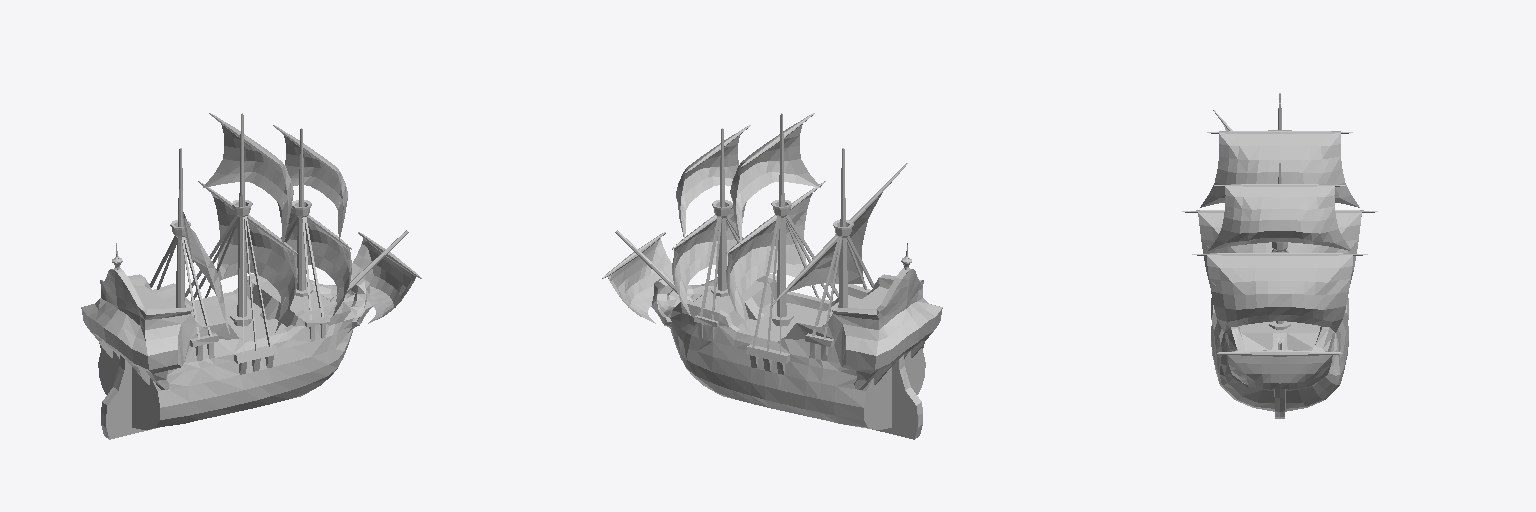
File: galleone.obj
The picture shows the model from 3 angles: view 1: azimuth 30°, elevation 25°; view 2: azimuth 150°, elevation 25°; view 3: azimuth 270°, elevation 25°; orthographic projection.
Visible parts, largest first — view 1: hull, sail2, sail1, aft, deck, mast2, sail6, sail4, sail5, mast3, keel, mast1 (+3 smaller); view 2: hull, sail2, sail1, aft, deck, mast2, sail6, sail4, sail3, sail5, mast3, mast1 (+3 smaller); view 3: sail5, sail1, sail4, hull, sail6, sail2, deck.
Part boxes in pixels (left/top/right/bottom): hull: left=98, top=268, right=372, bottom=429; sail2: left=198, top=181, right=297, bottom=332; sail1: left=203, top=113, right=293, bottom=243; aft: left=81, top=298, right=183, bottom=389; deck: left=135, top=281, right=354, bottom=338; mast2: left=185, top=113, right=271, bottom=353; sail6: left=350, top=232, right=421, bottom=323; sail4: left=273, top=125, right=347, bottom=240; sail5: left=277, top=202, right=351, bottom=315; mast3: left=149, top=148, right=211, bottom=338; keel: left=101, top=355, right=155, bottom=439; mast1: left=281, top=128, right=323, bottom=319; hull: left=651, top=268, right=925, bottom=429; sail2: left=726, top=181, right=825, bottom=332; sail1: left=730, top=113, right=820, bottom=243; aft: left=840, top=298, right=942, bottom=389; deck: left=669, top=281, right=888, bottom=338; mast2: left=752, top=113, right=838, bottom=353; sail6: left=602, top=232, right=673, bottom=323; sail4: left=676, top=125, right=750, bottom=240; sail3: left=772, top=163, right=907, bottom=305; sail5: left=672, top=202, right=746, bottom=315; mast3: left=812, top=148, right=874, bottom=338; mast1: left=700, top=128, right=742, bottom=319; sail5: left=1192, top=252, right=1367, bottom=332; sail1: left=1200, top=130, right=1359, bottom=207; sail4: left=1208, top=184, right=1351, bottom=250; hull: left=1211, top=320, right=1348, bottom=411; sail6: left=1217, top=350, right=1342, bottom=389; sail2: left=1182, top=210, right=1377, bottom=283; deck: left=1239, top=322, right=1320, bottom=350.
Size of the model in its own units: 80.69 by 73.54 by 45.